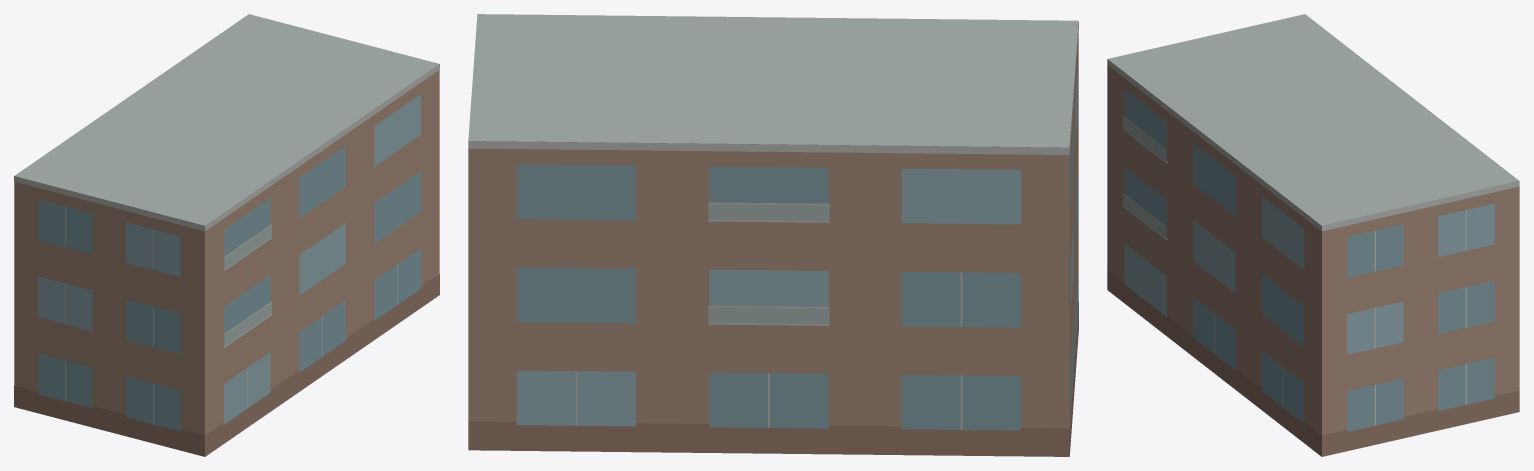
File: survey-upis-32827772.glb
3 views of the same model, side by side, from view 1: azimuth 30°, elevation 25°; view 2: azimuth 150°, elevation 25°; view 3: azimuth 270°, elevation 25° (orthographic). The views are drawn at different scales.
Visible parts, largest first — view 1: survey-upis-32827772.tmp; view 2: survey-upis-32827772.tmp; view 3: survey-upis-32827772.tmp.
Boxes of the visible parts, bbox=[...] form: survey-upis-32827772.tmp: bbox=[14, 14, 439, 456]; survey-upis-32827772.tmp: bbox=[468, 14, 1078, 456]; survey-upis-32827772.tmp: bbox=[1107, 14, 1519, 456].
Bounding box in the file's own units: 19.67 × 10 × 16.17.
